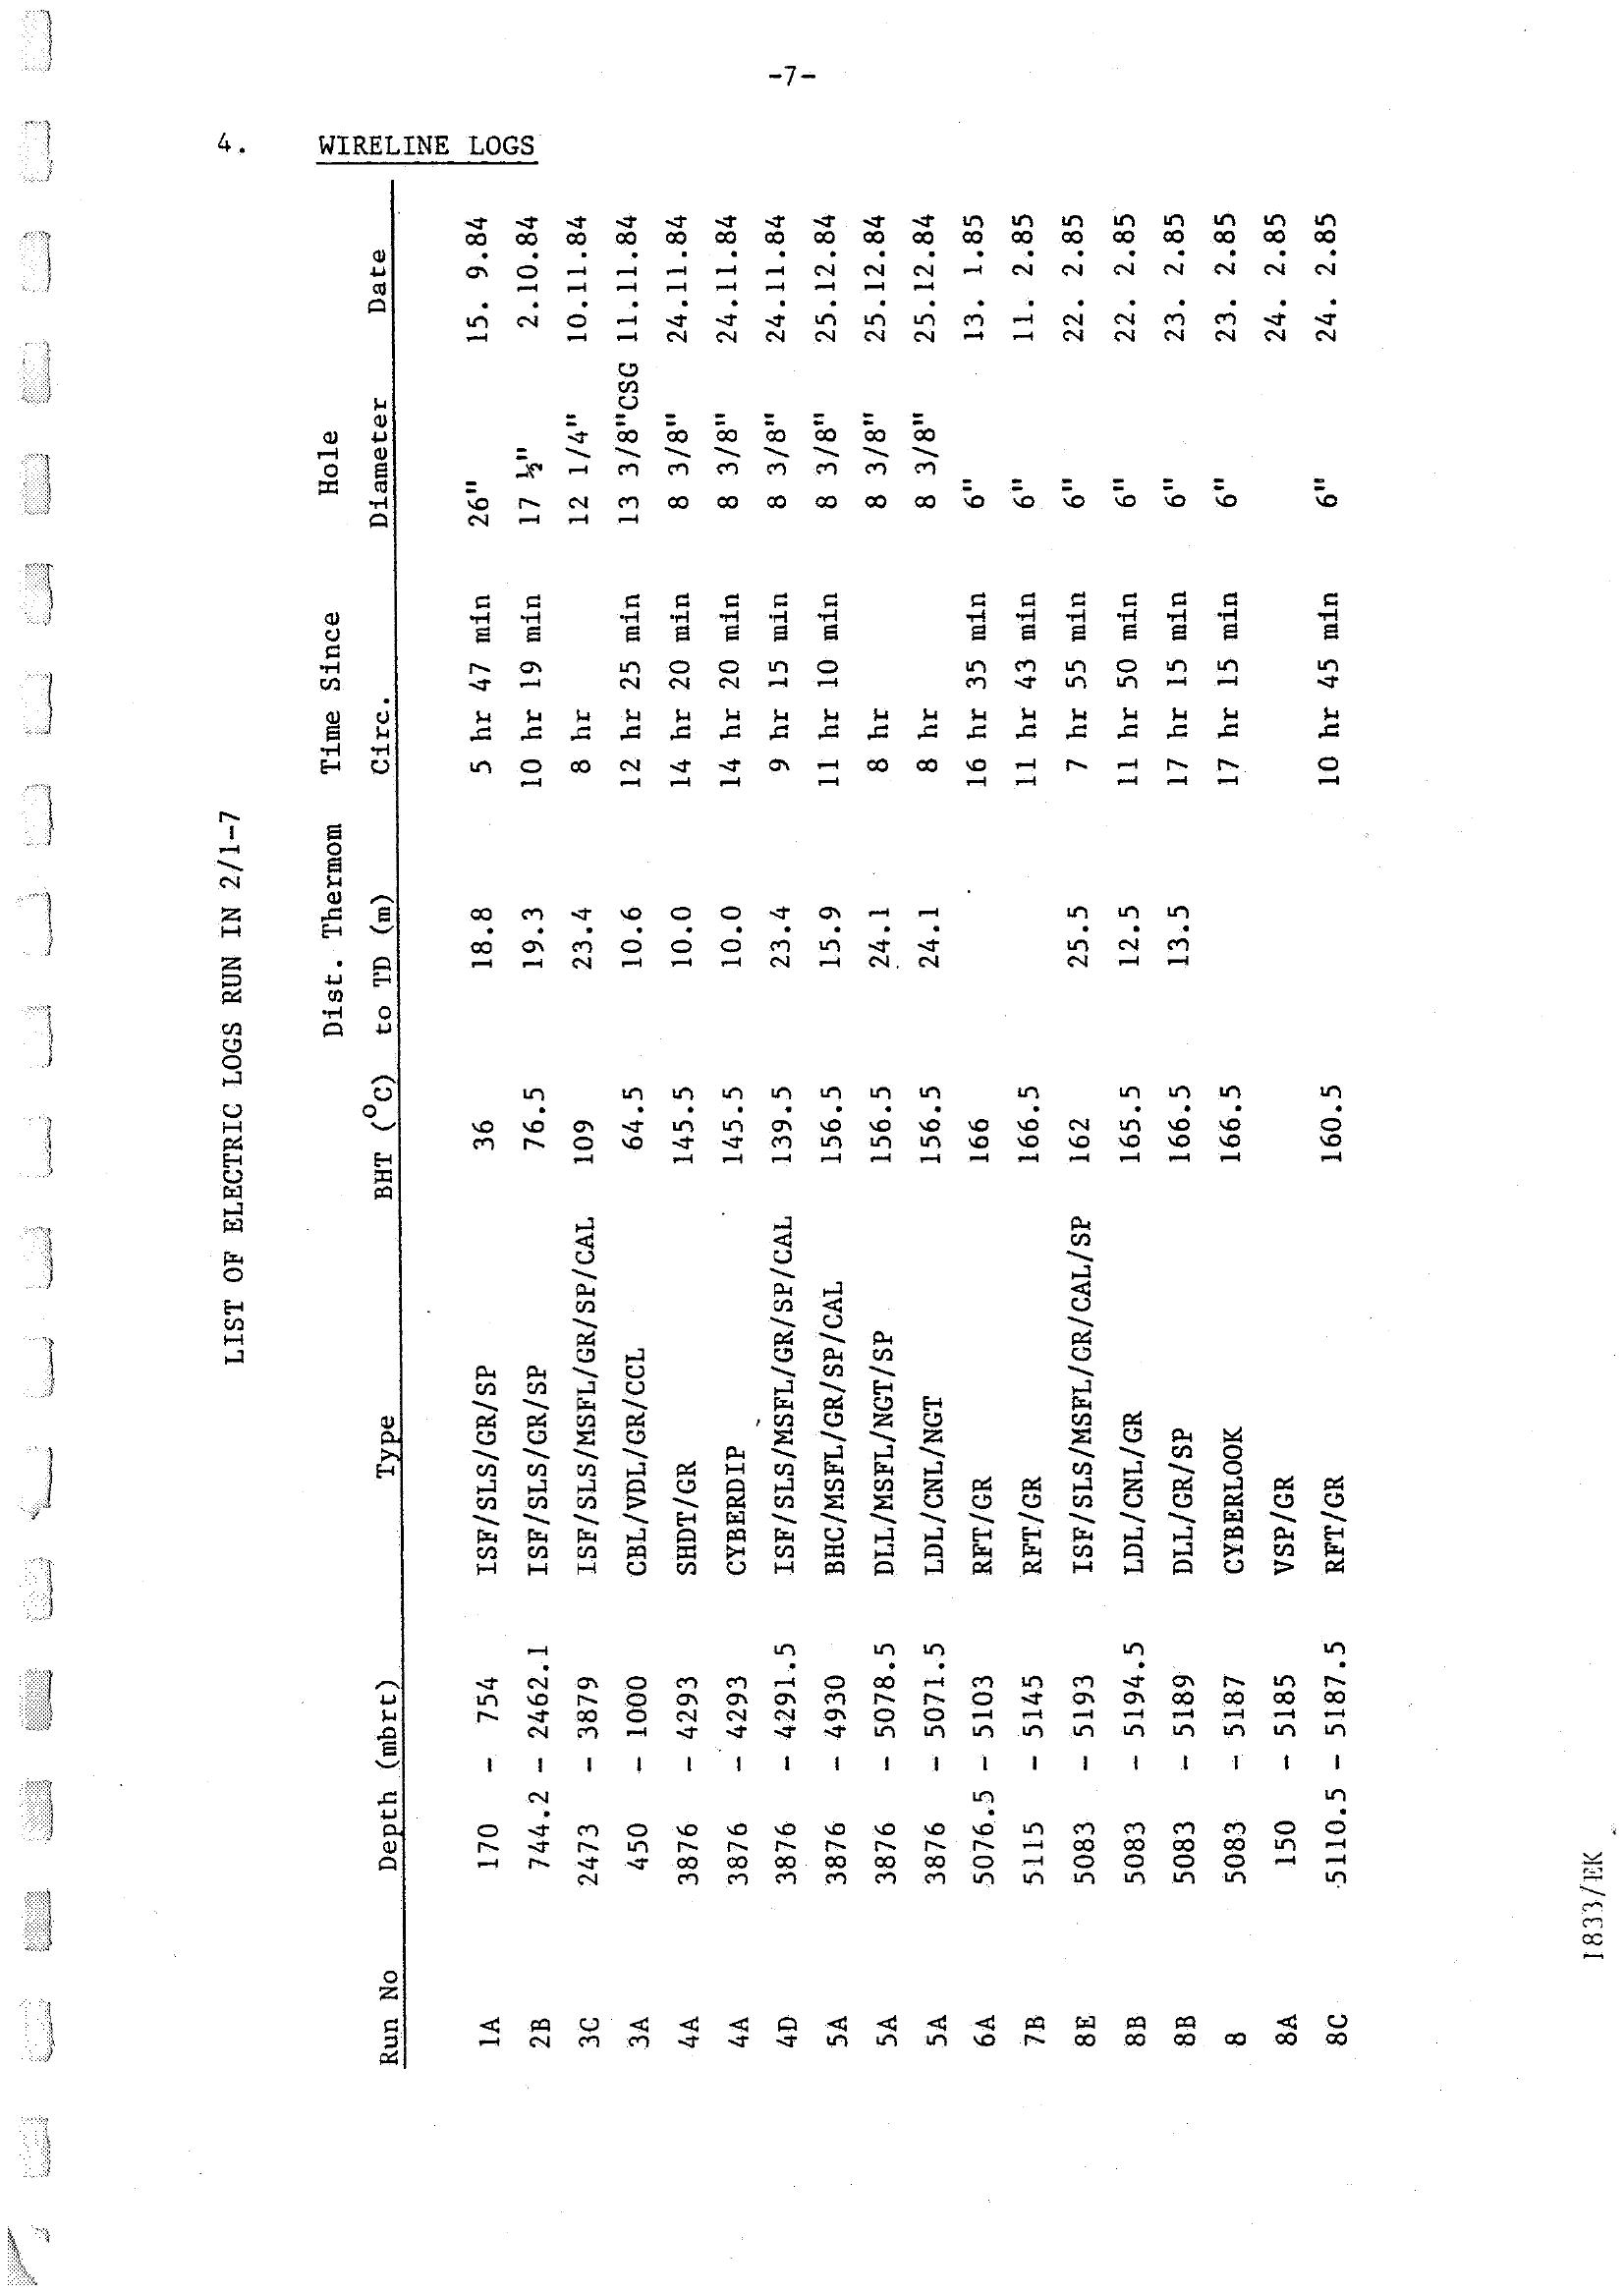table: (178, 98, 1439, 2123)
